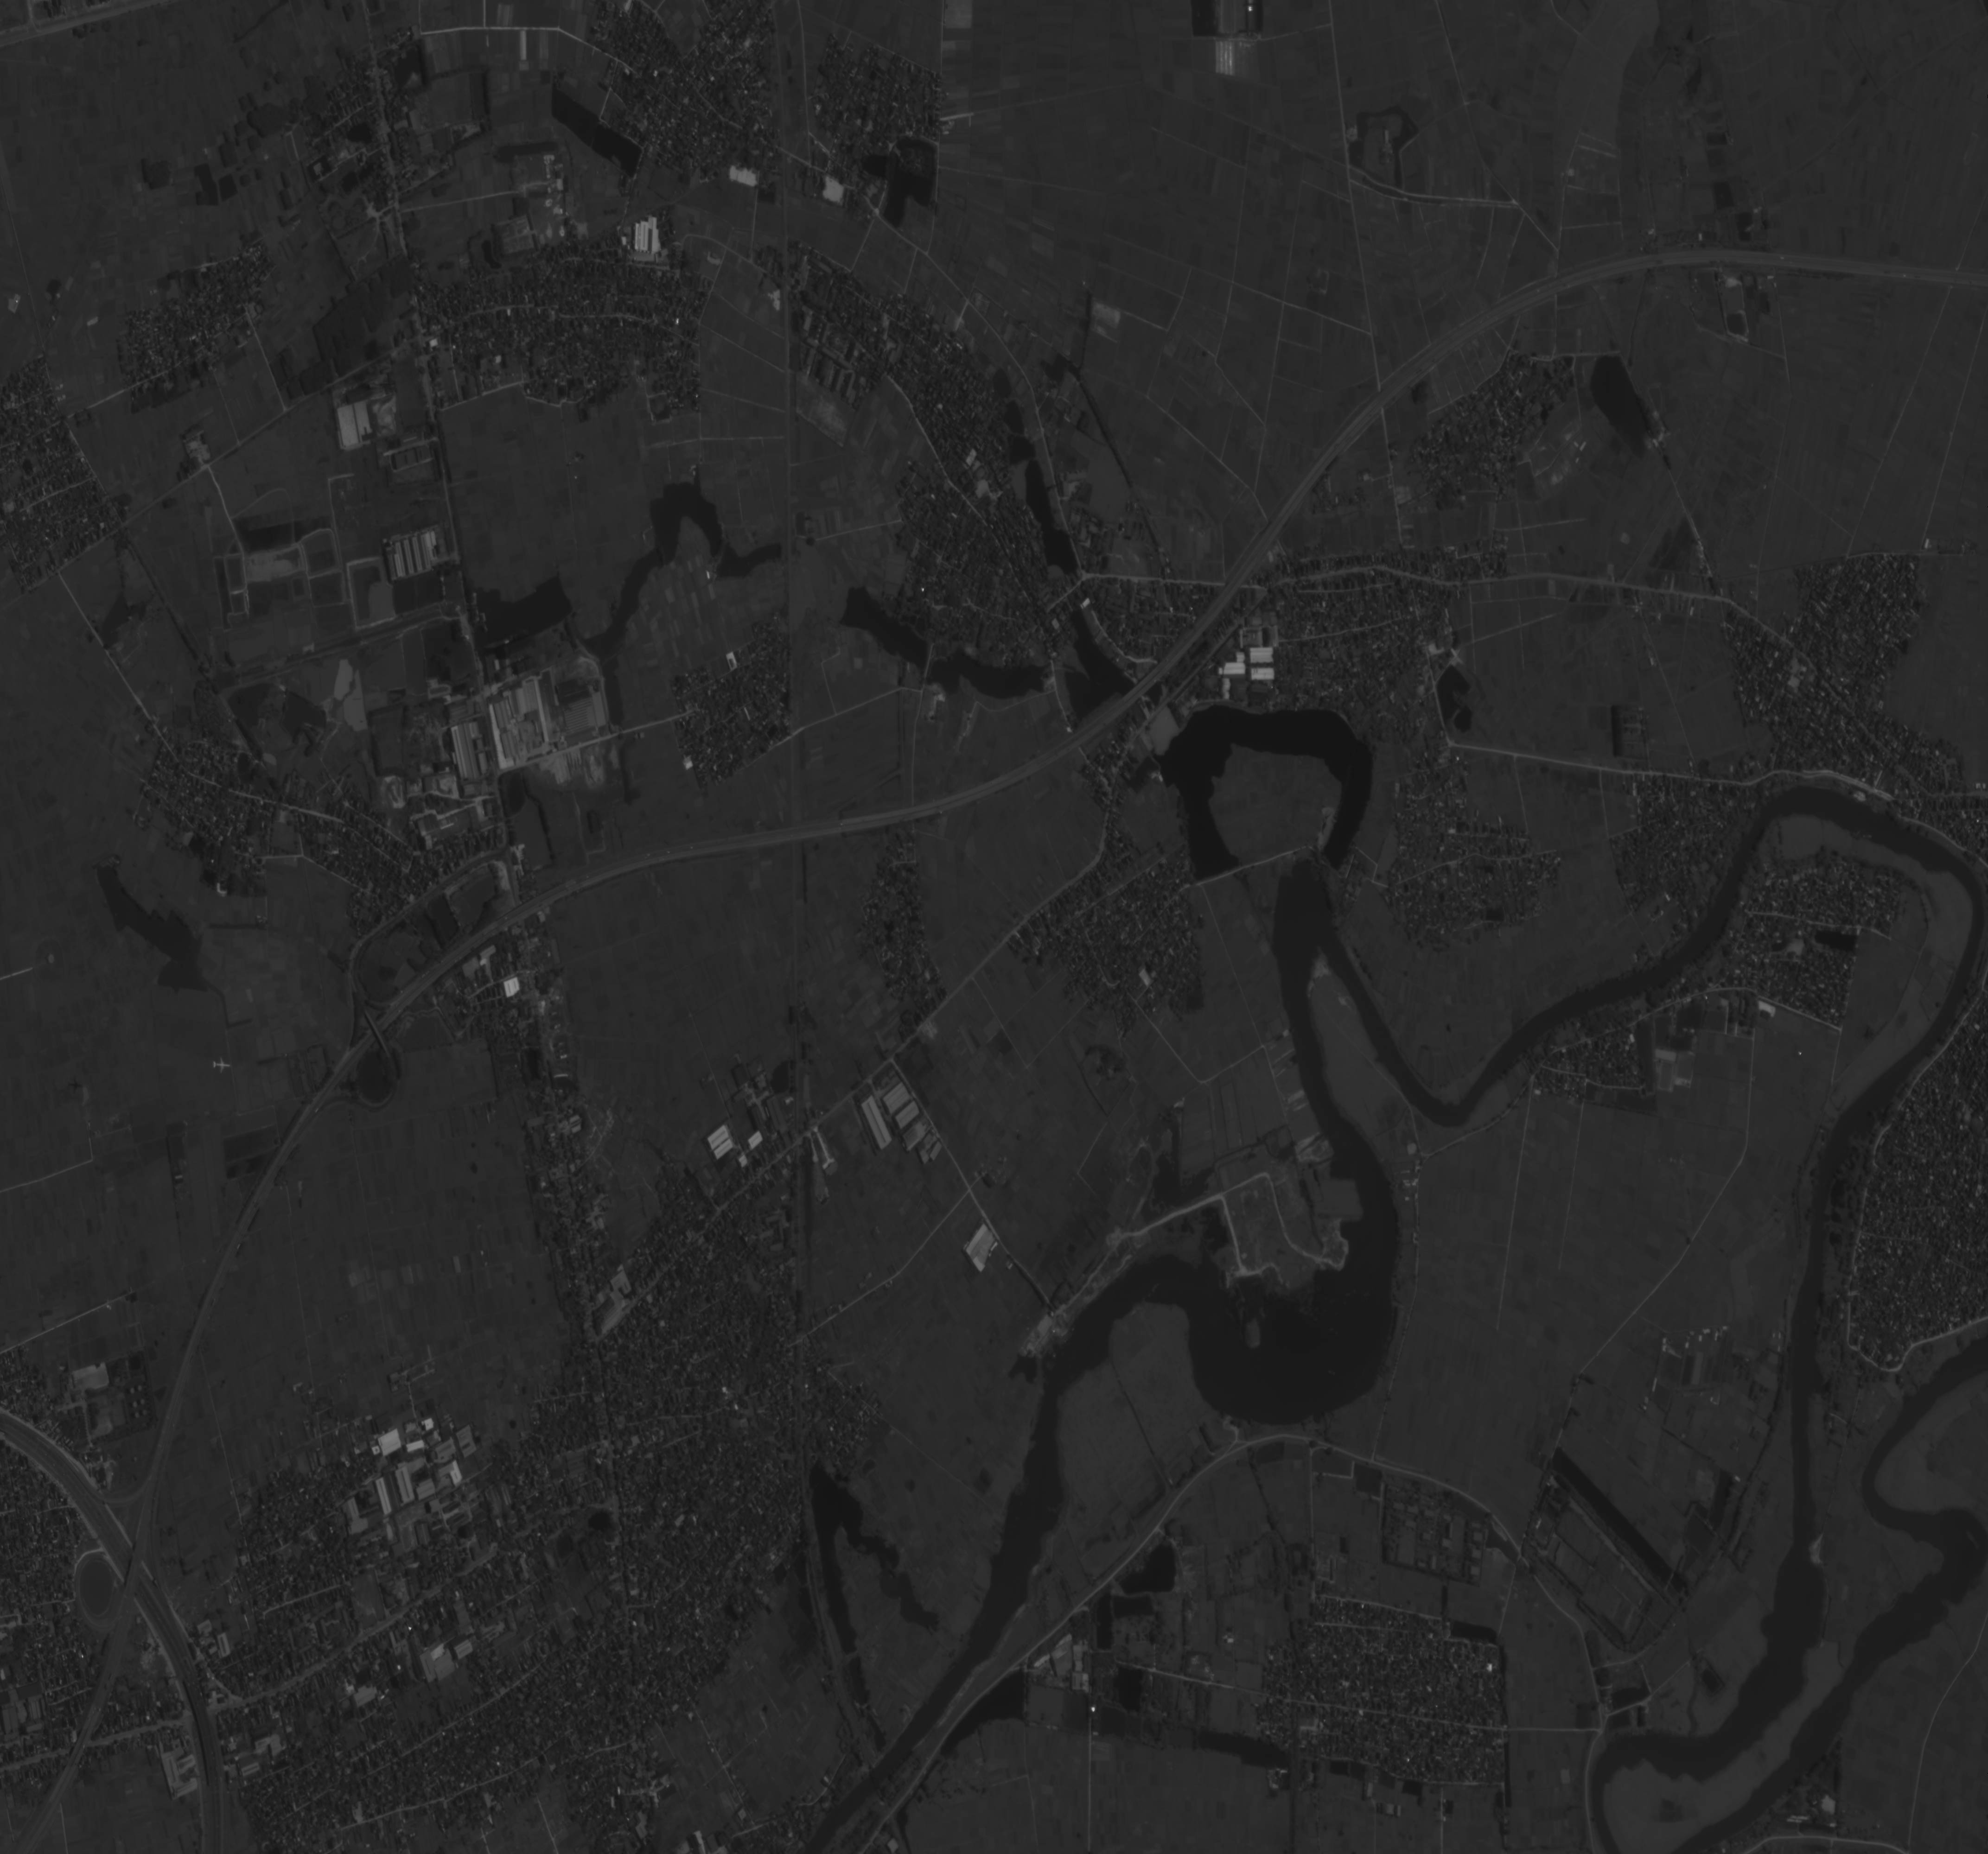bridge: (1124, 678, 1152, 709)
plane: (211, 1056, 233, 1077)
storage tank: (141, 1410, 148, 1418), (134, 1411, 141, 1420), (139, 1399, 146, 1406), (129, 1387, 136, 1394), (139, 1385, 145, 1392), (134, 1403, 139, 1410)
